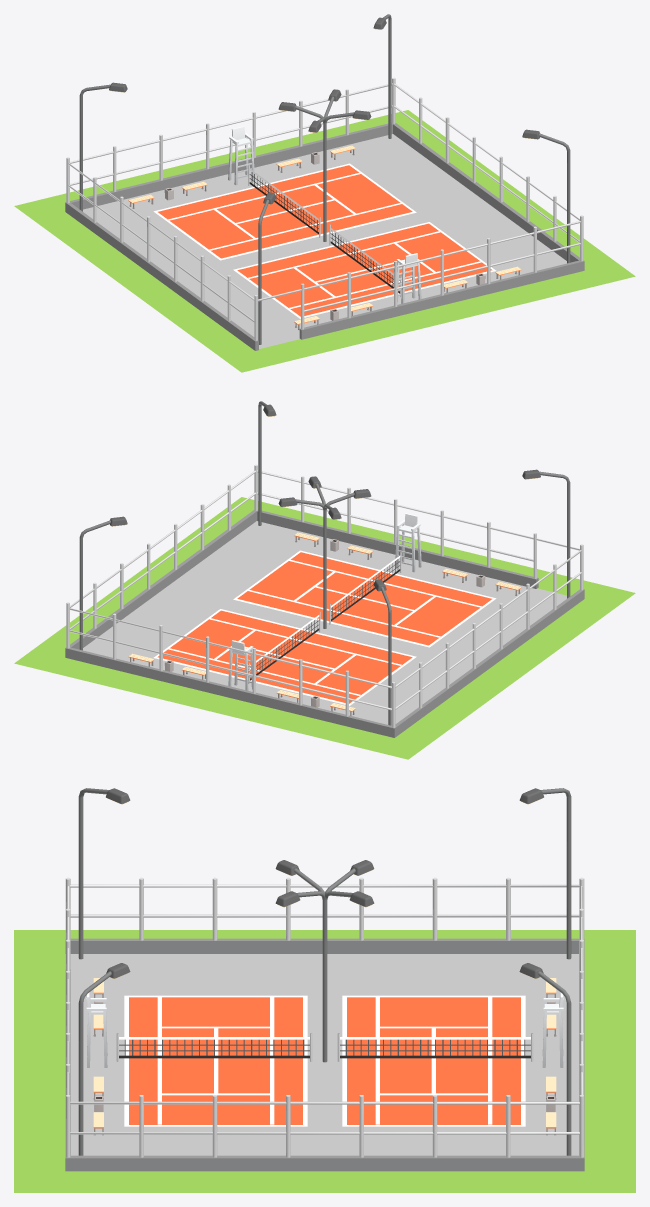
Rendered from Entertainment_Tennis_01.glb.
The picture shows the model from 3 angles, top to bottom: view 1: azimuth 30°, elevation 25°; view 2: azimuth 150°, elevation 25°; view 3: azimuth 270°, elevation 25°; orthographic projection. The views are drawn at different scales.
Visible parts, largest first — view 1: Entertainment_Tennis_01; view 2: Entertainment_Tennis_01; view 3: Entertainment_Tennis_01.
Boxes of the visible parts, x1,y1,x2,y2 form: Entertainment_Tennis_01: [14, 14, 635, 372]; Entertainment_Tennis_01: [14, 401, 635, 759]; Entertainment_Tennis_01: [14, 788, 635, 1192].
Size of the model in its own units: 30 by 9.72 by 30.
Materials: 2 (2 with a texture image).
